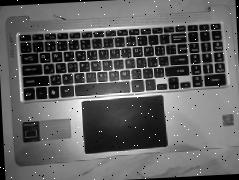electronic: (4, 3, 239, 166)
